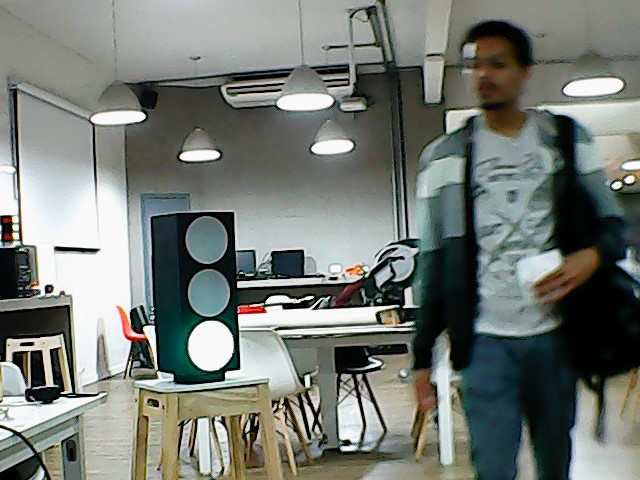verde: (146, 210, 244, 387)
